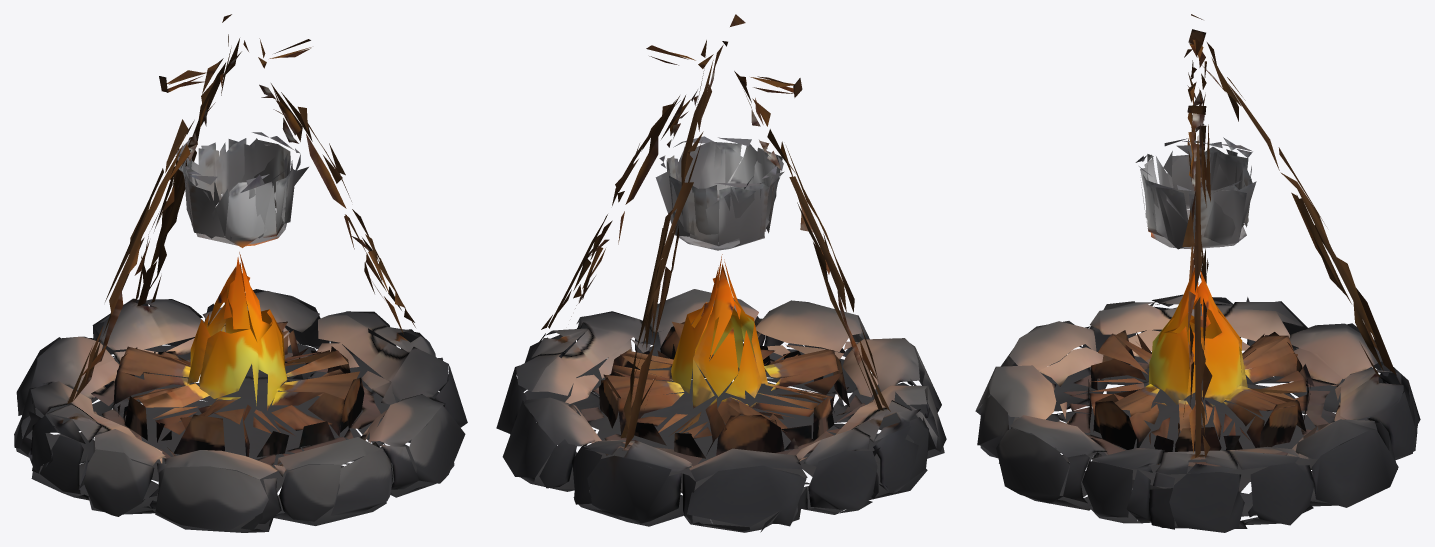
The model's file is Landing_Campfire.glb.
3 views of the same model, side by side, from view 1: azimuth 30°, elevation 25°; view 2: azimuth 150°, elevation 25°; view 3: azimuth 270°, elevation 25° (orthographic). The views are drawn at different scales.
Visible parts, largest first — view 1: Landing_Campfire; view 2: Landing_Campfire; view 3: Landing_Campfire.
Boxes of the visible parts, bbox=[...] form: Landing_Campfire: bbox=[14, 14, 467, 532]; Landing_Campfire: bbox=[496, 14, 946, 532]; Landing_Campfire: bbox=[975, 14, 1420, 532].
Bounding box in the file's own units: 0.7014 × 0.7498 × 0.6953.
1 material, 1 textured.
